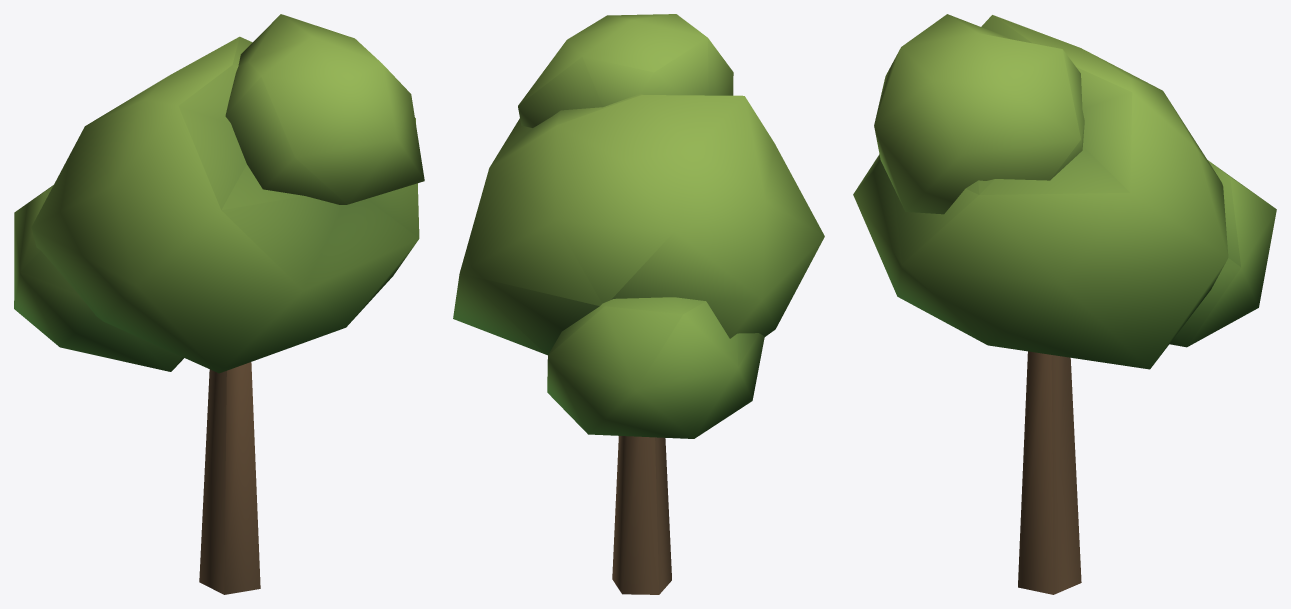
Rendered from prop_tree_b.glb.
3 views of the same model, side by side, from view 1: azimuth 30°, elevation 25°; view 2: azimuth 150°, elevation 25°; view 3: azimuth 270°, elevation 25° (orthographic). The views are drawn at different scales.
Visible parts, largest first — view 1: prop_tree_b; view 2: prop_tree_b; view 3: prop_tree_b.
Part boxes in pixels (x1,y1,x2,y2): prop_tree_b: (14,14,424,594); prop_tree_b: (453,14,824,594); prop_tree_b: (853,14,1276,594).
Size of the model in its own units: 0.9391 by 1.57 by 1.06.
